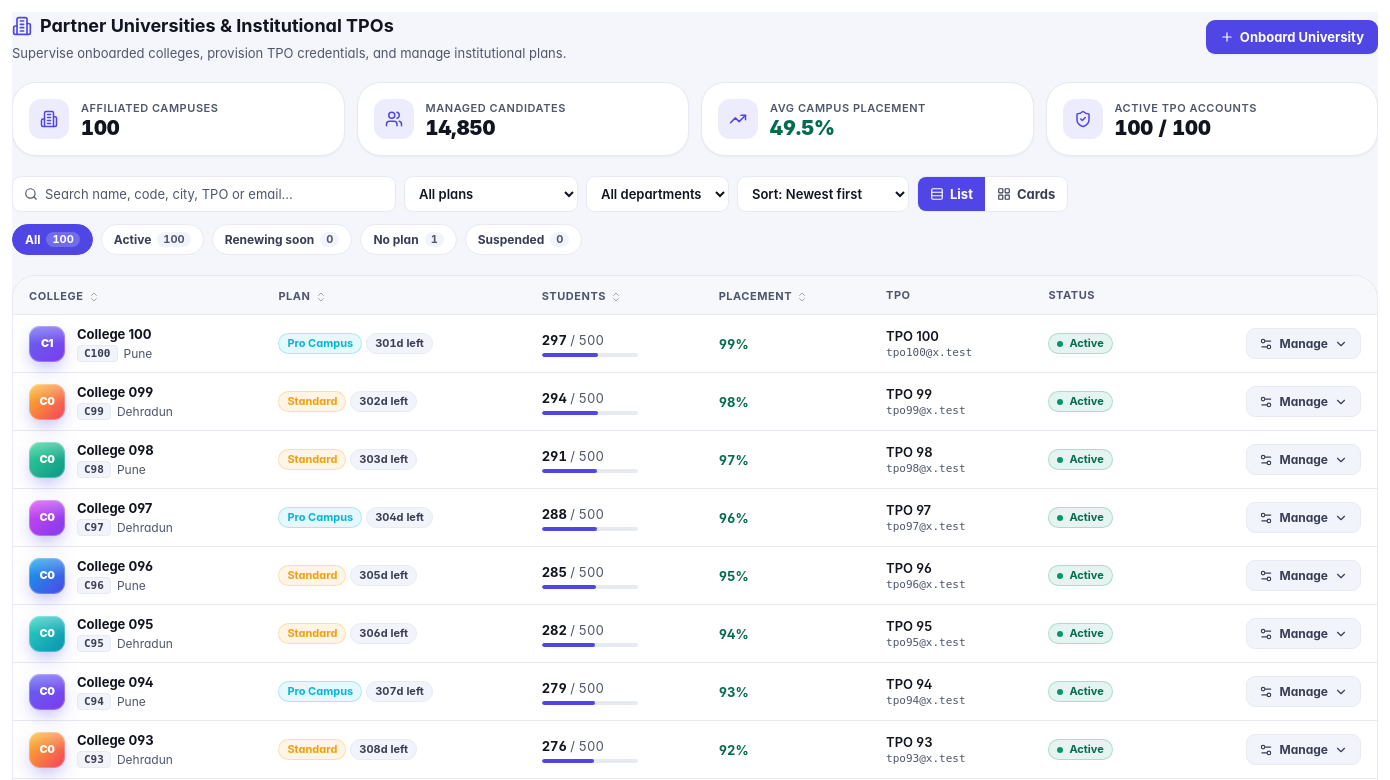
a hundred colleges › puts a college with no running plan first when sorting by plan expiry (the most urgent row)
What coordinates should you click on to do the following:
click the button "Plan"
I would click on:
 (302, 296)
Its box is [278, 289, 327, 304].
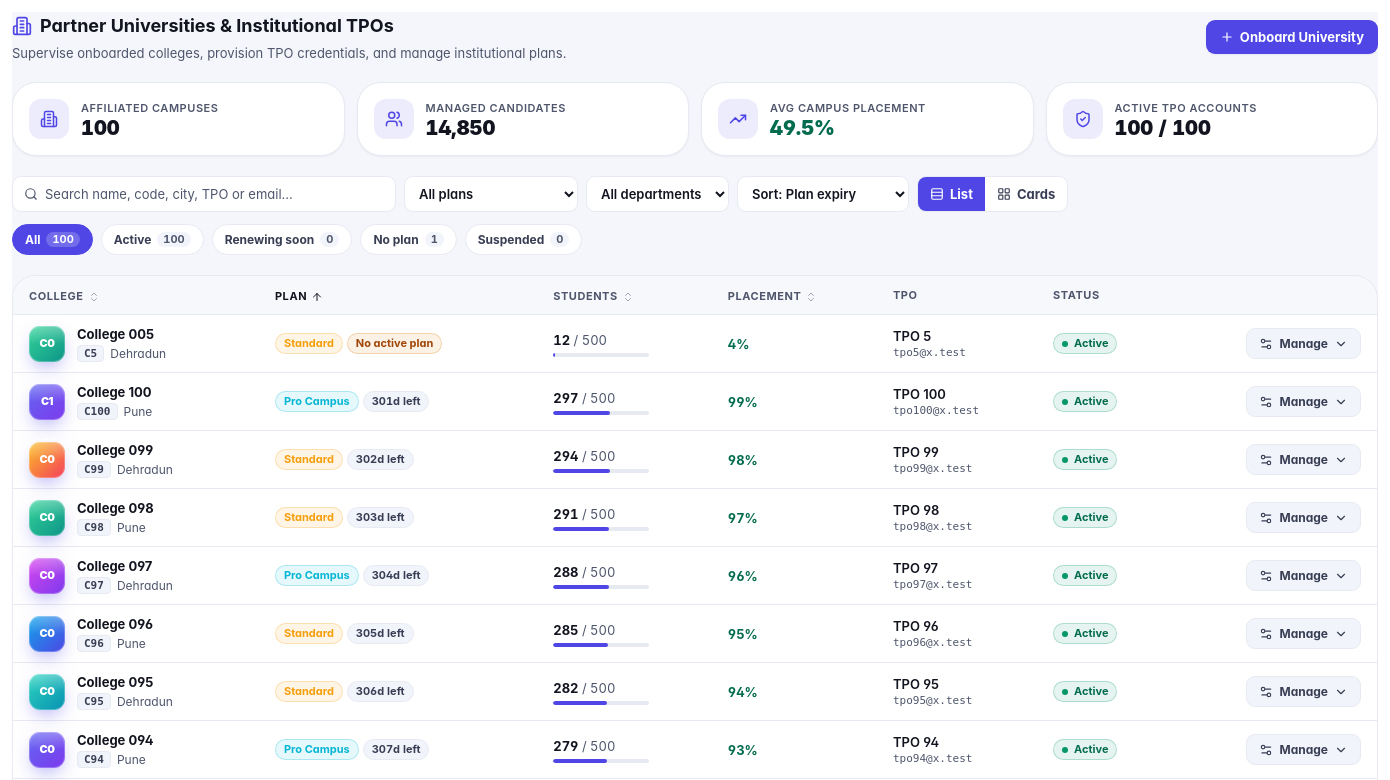
Expected: the text "College 005" is shown, [77, 325, 166, 343]
